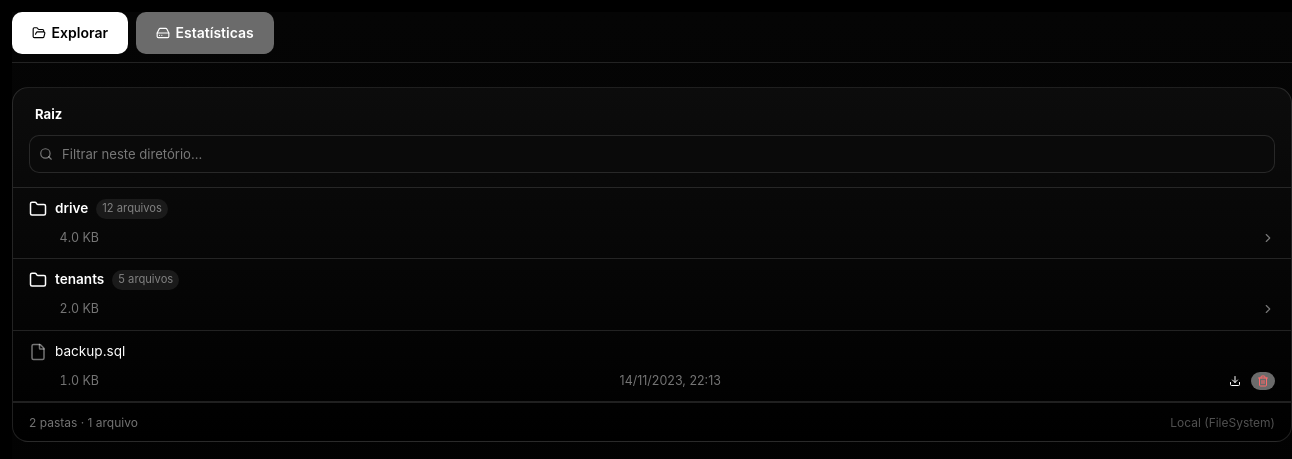
Test case: BucketTab › navigates into a folder when clicked
This screenshot has width=1292, height=459.
Click the text "drive" at [72, 209], box [55,198,88,220]
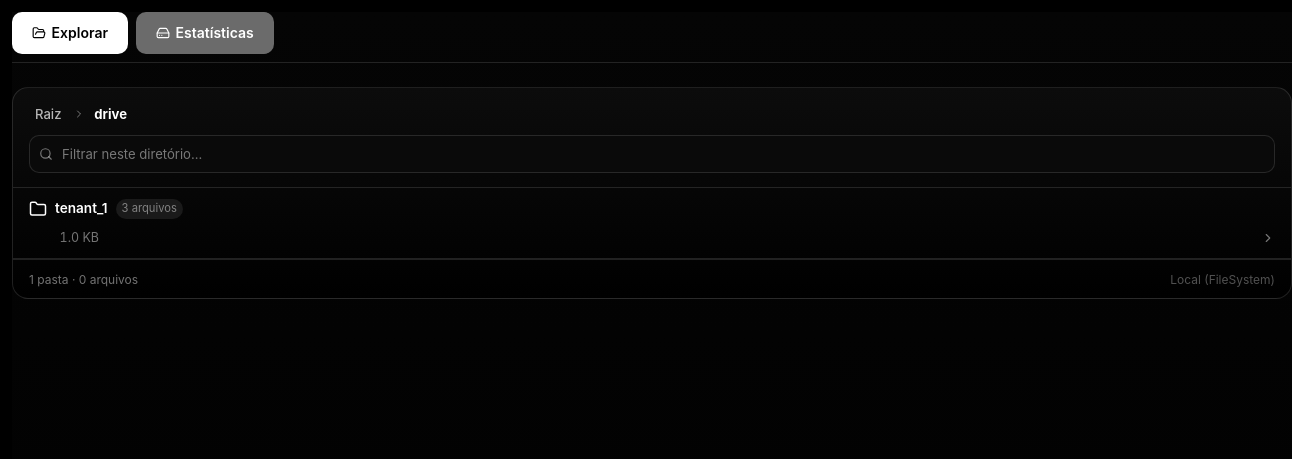
Expected: the text "tenant_1" is shown, [55,198,108,220]
